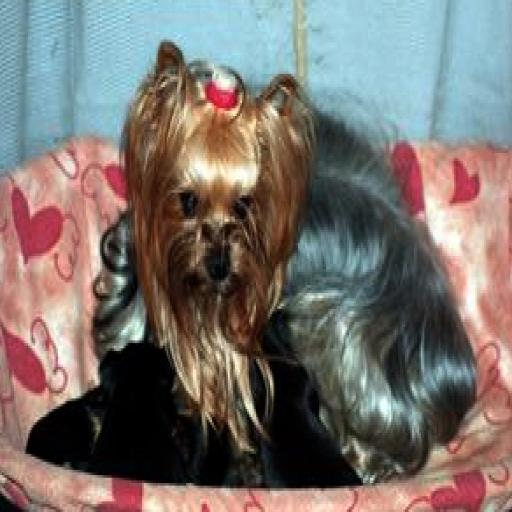dog_face: (124, 45, 293, 314)
